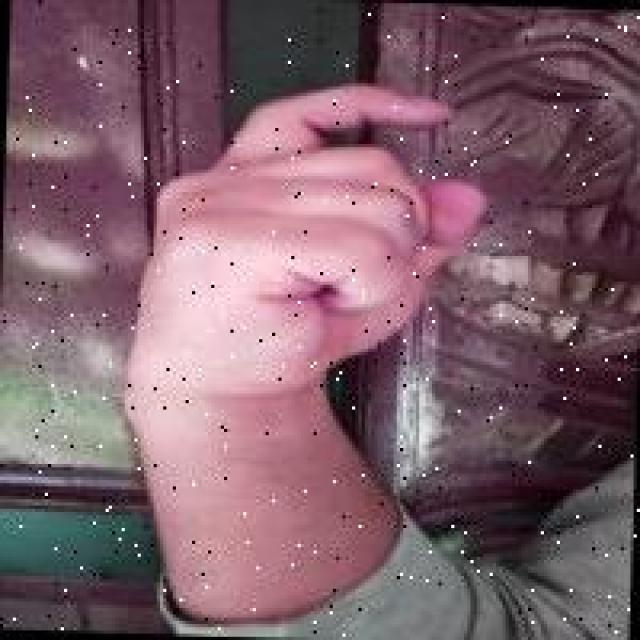X: (124, 69, 490, 494)
